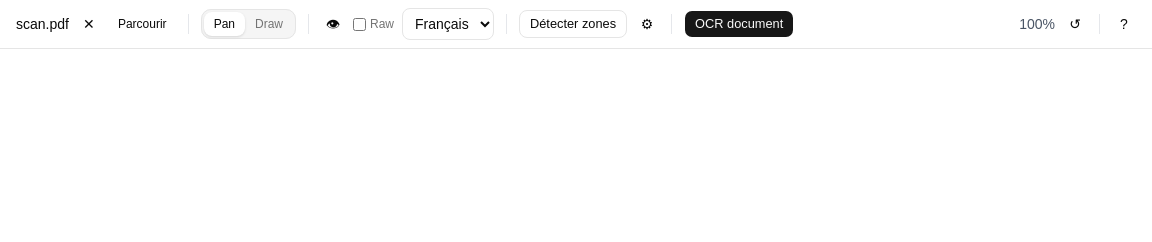
Scenario: Toolbar — détection de layout › clic sur engrenage ouvre le popover des filtres
Click the button named "Filtres de détection".
click(647, 24)  # box [635,12,659,36]
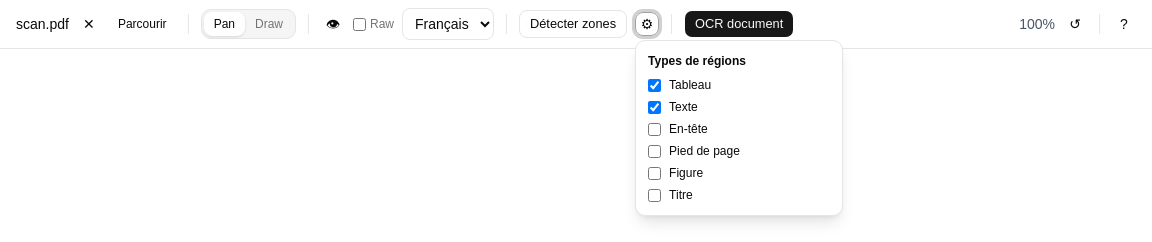
expect the text "Types de régions" is shown: met, box [648,54,746,68]
